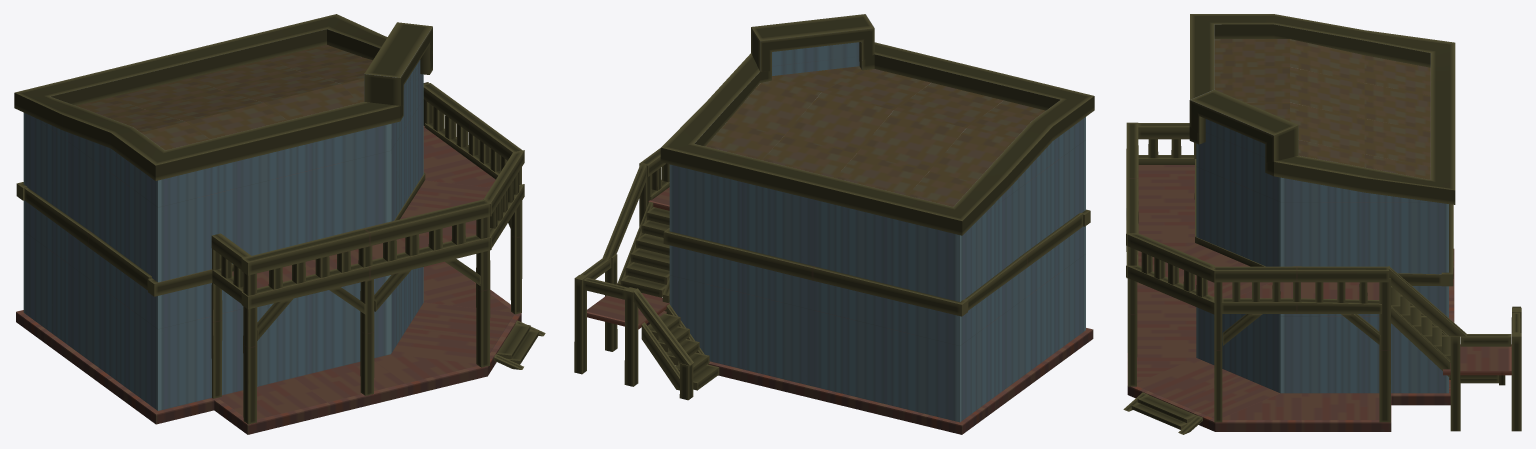
Rendered from house_v2_blank_ncl1_2.fbx.
3 renders of one model, left to right at view 1: azimuth 30°, elevation 25°; view 2: azimuth 150°, elevation 25°; view 3: azimuth 270°, elevation 25°, orthographic. The views are drawn at different scales.
Visible parts, largest first — view 1: house_v2_blank; view 2: house_v2_blank; view 3: house_v2_blank.
Boxes of the visible parts, x1,y1,x2,y2 form: house_v2_blank: (14, 14, 545, 434); house_v2_blank: (574, 14, 1094, 434); house_v2_blank: (1123, 14, 1521, 434).
Size of the model in its own units: 996 by 708 by 946.
